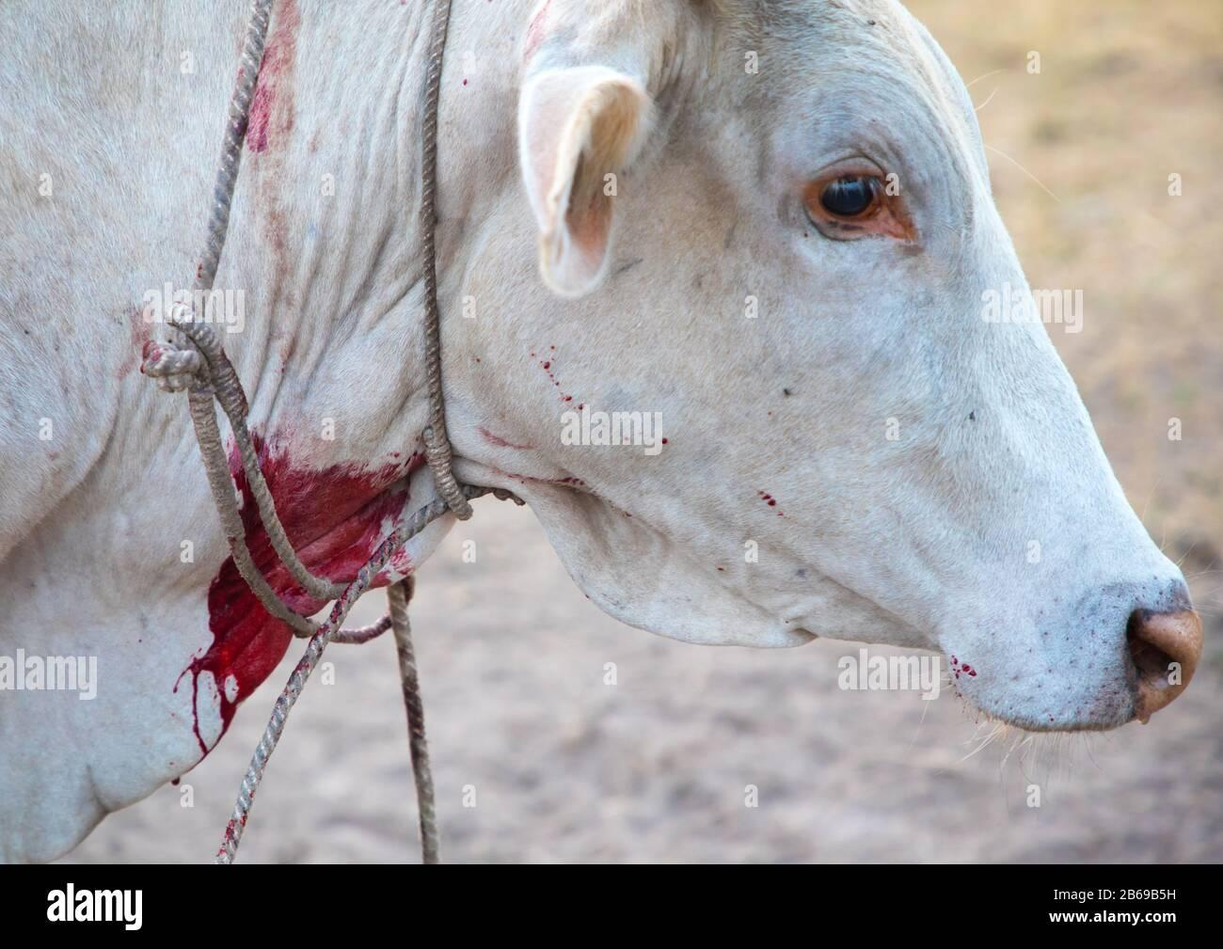bleeding: (101, 429, 461, 733)
